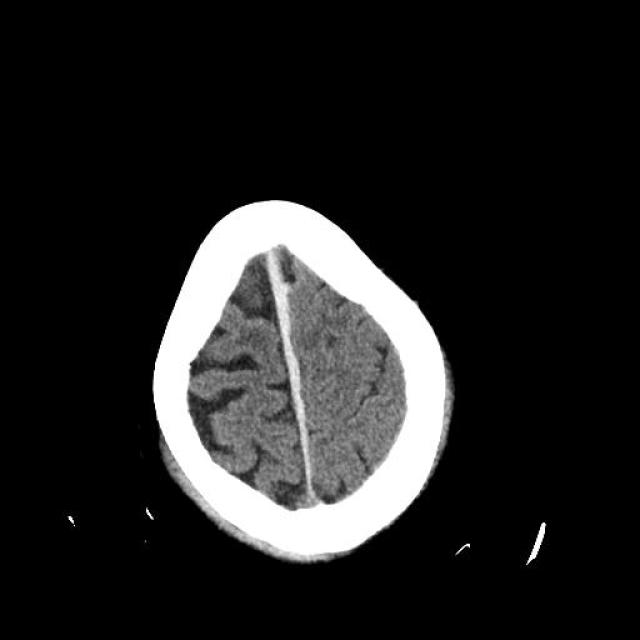Subdural: (260, 237, 324, 508)
